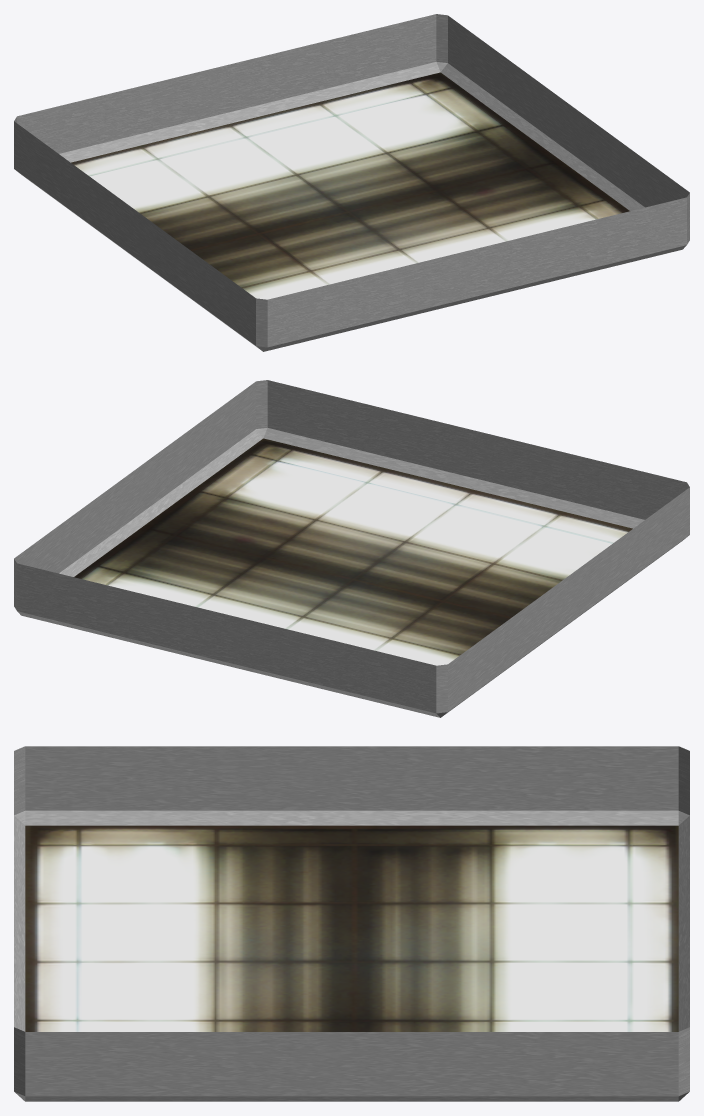
Rendered from Light1.fbx.
The picture shows the model from 3 angles, top to bottom: view 1: azimuth 30°, elevation 25°; view 2: azimuth 150°, elevation 25°; view 3: azimuth 270°, elevation 25°; orthographic projection. The views are drawn at different scales.
Parts seen in each view (by area): view 1: Empty_Mesh; view 2: Empty_Mesh; view 3: Empty_Mesh.
Boxes of the visible parts, x1,y1,x2,y2 form: Empty_Mesh: [14, 14, 689, 351]; Empty_Mesh: [14, 380, 689, 717]; Empty_Mesh: [14, 746, 689, 1101].
Size of the model in its own units: 101 by 12.29 by 101.
